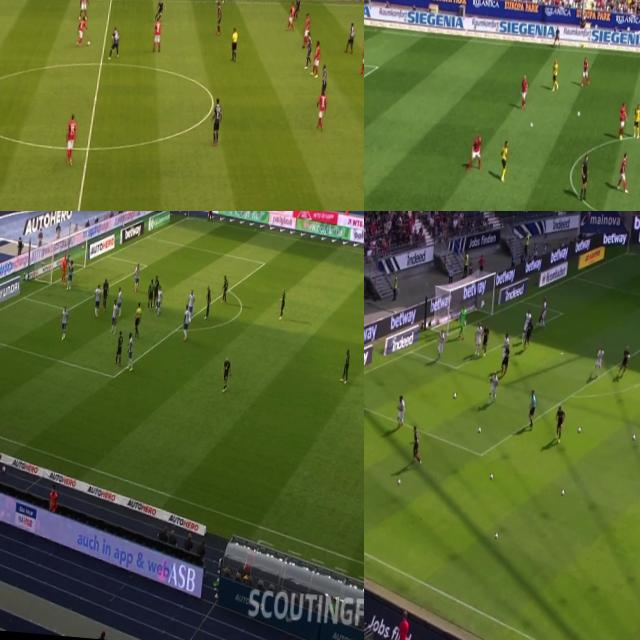ball: (85, 36, 92, 48), (452, 390, 458, 400), (396, 478, 402, 486), (560, 488, 566, 496), (494, 529, 498, 540), (488, 471, 493, 479), (632, 432, 637, 440), (528, 122, 534, 128), (578, 424, 582, 432), (576, 110, 581, 116), (478, 425, 482, 431)
player: (63, 113, 79, 166), (615, 148, 633, 194), (210, 94, 223, 146), (408, 424, 425, 463), (552, 405, 565, 448), (497, 138, 509, 184), (617, 100, 629, 142), (108, 24, 122, 59), (617, 343, 630, 380), (302, 30, 314, 70), (220, 355, 232, 394), (58, 302, 69, 343), (152, 17, 164, 54), (314, 91, 326, 128), (339, 347, 351, 384), (486, 372, 499, 406), (469, 136, 482, 169), (312, 38, 322, 79), (124, 331, 134, 371), (203, 282, 214, 318), (394, 394, 406, 426), (346, 18, 357, 52), (213, 1, 224, 34), (91, 283, 102, 315), (182, 304, 192, 339), (114, 328, 123, 366), (76, 14, 87, 45), (522, 319, 533, 350), (186, 288, 196, 322), (59, 252, 70, 282), (100, 278, 109, 314), (473, 323, 482, 359), (518, 77, 528, 109), (520, 310, 530, 342), (482, 323, 491, 358), (500, 345, 510, 376), (592, 347, 602, 378), (302, 11, 311, 45), (110, 298, 119, 332), (458, 306, 467, 340), (435, 331, 445, 361), (320, 62, 328, 98), (632, 103, 640, 138), (152, 272, 160, 306), (133, 261, 142, 291), (155, 285, 164, 315), (77, 0, 89, 22), (581, 58, 591, 84), (552, 60, 560, 92), (66, 258, 74, 289), (278, 287, 286, 318), (287, 2, 295, 30), (221, 272, 229, 300), (155, 0, 166, 20), (540, 299, 548, 325), (502, 334, 509, 362), (359, 39, 364, 75), (148, 278, 154, 306), (293, 0, 301, 18)
